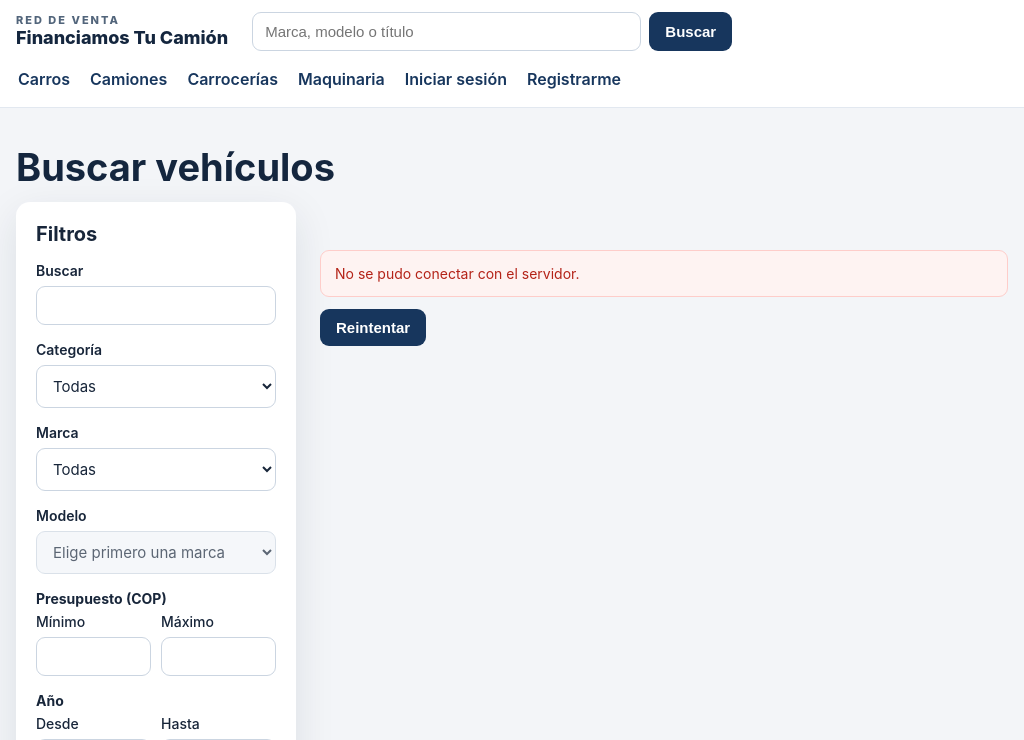
it: Resultados: consulta y contador › CA-004-23 / CA-UI-10 un fallo de red muestra "No se pudo conectar con el servidor." y Reintentar
The width and height of the screenshot is (1024, 740).
Expected: the message "No se pudo conectar con el servidor." is shown, 320,250 -> 1008,297
Click the button "Reintentar": (373, 328) 320,309 -> 426,346
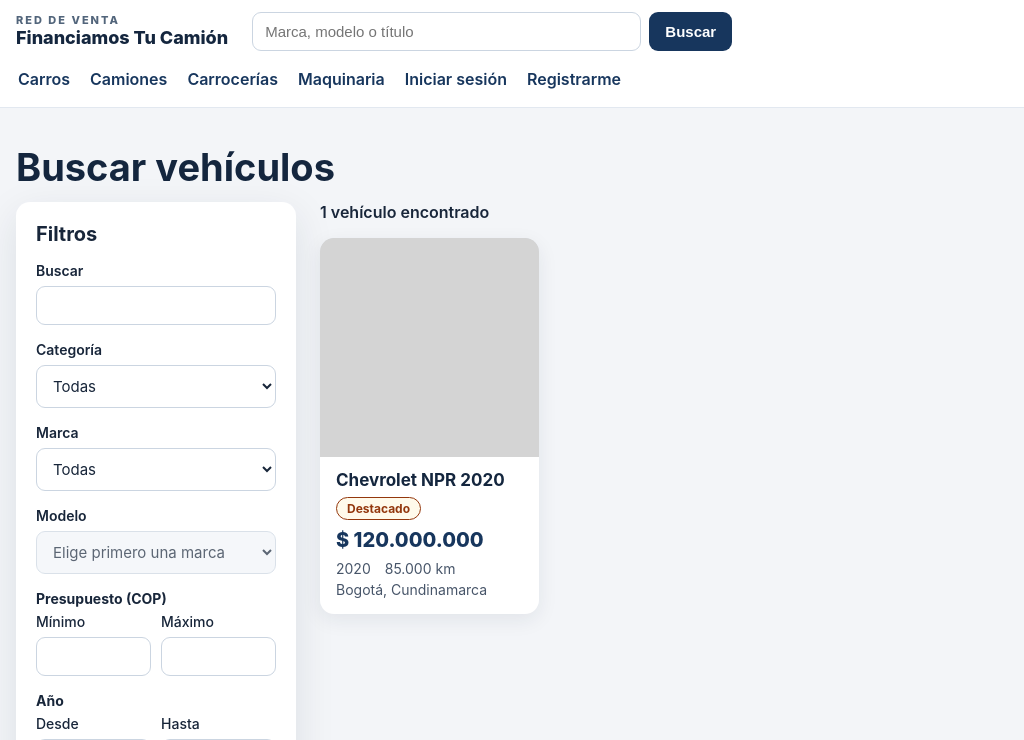
Expected: the link "Chevrolet NPR 2020" is shown, 336,470 -> 505,490
